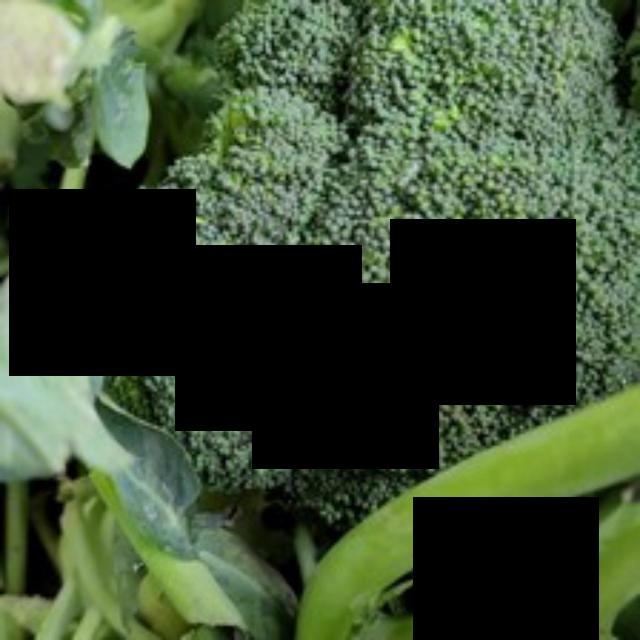broccoli: (100, 0, 638, 546)
